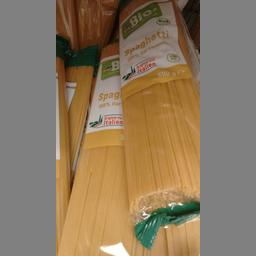pasta: (119, 0, 200, 239), (58, 44, 140, 254)
